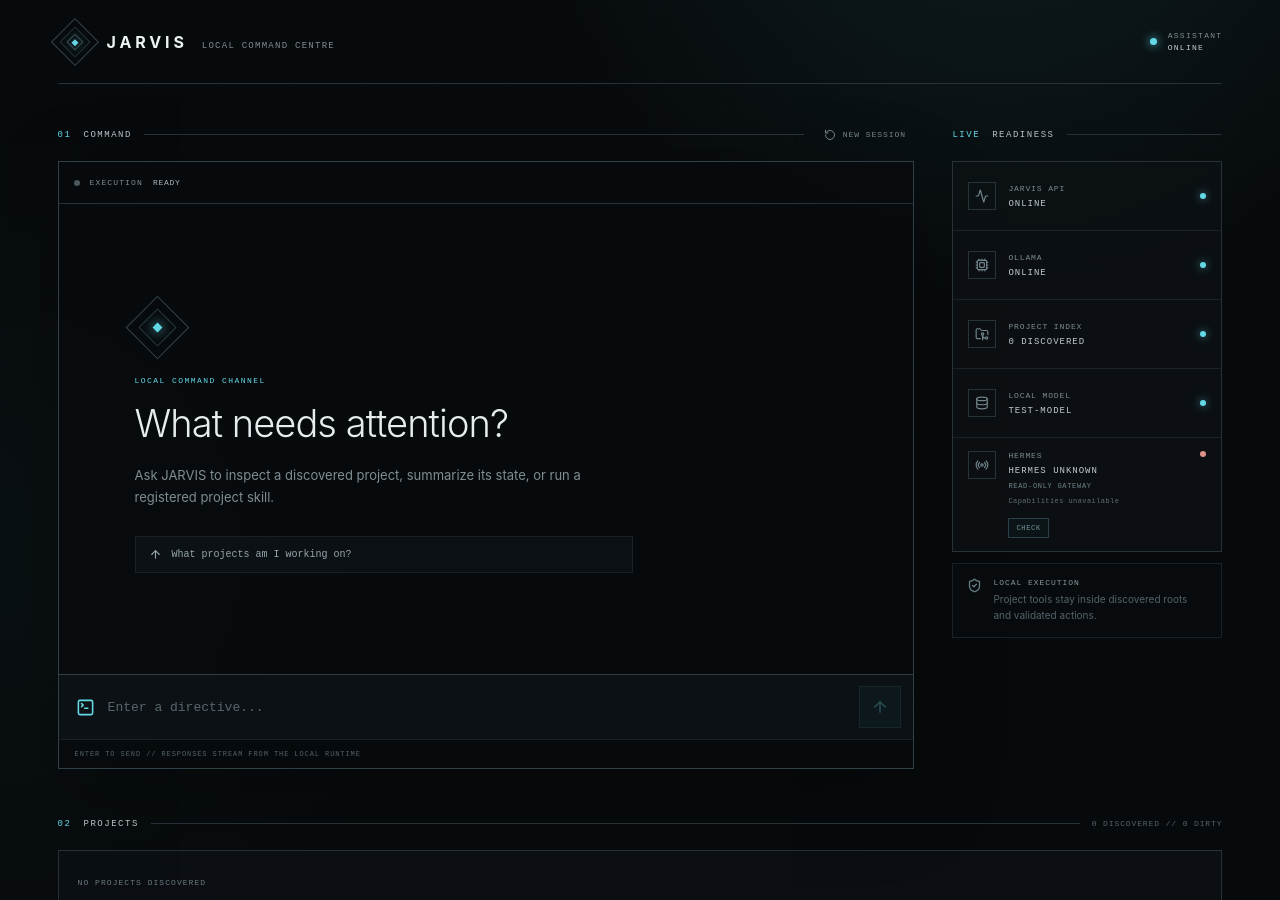
Test case: Dashboard › handles an expired session without crashing
Expected: the text "ONLINE" below "ASSISTANT" is shown, 1168,43 -> 1204,52
In the field named "Enter a command": point(477, 707) 108,686 -> 846,728, type "Continue"
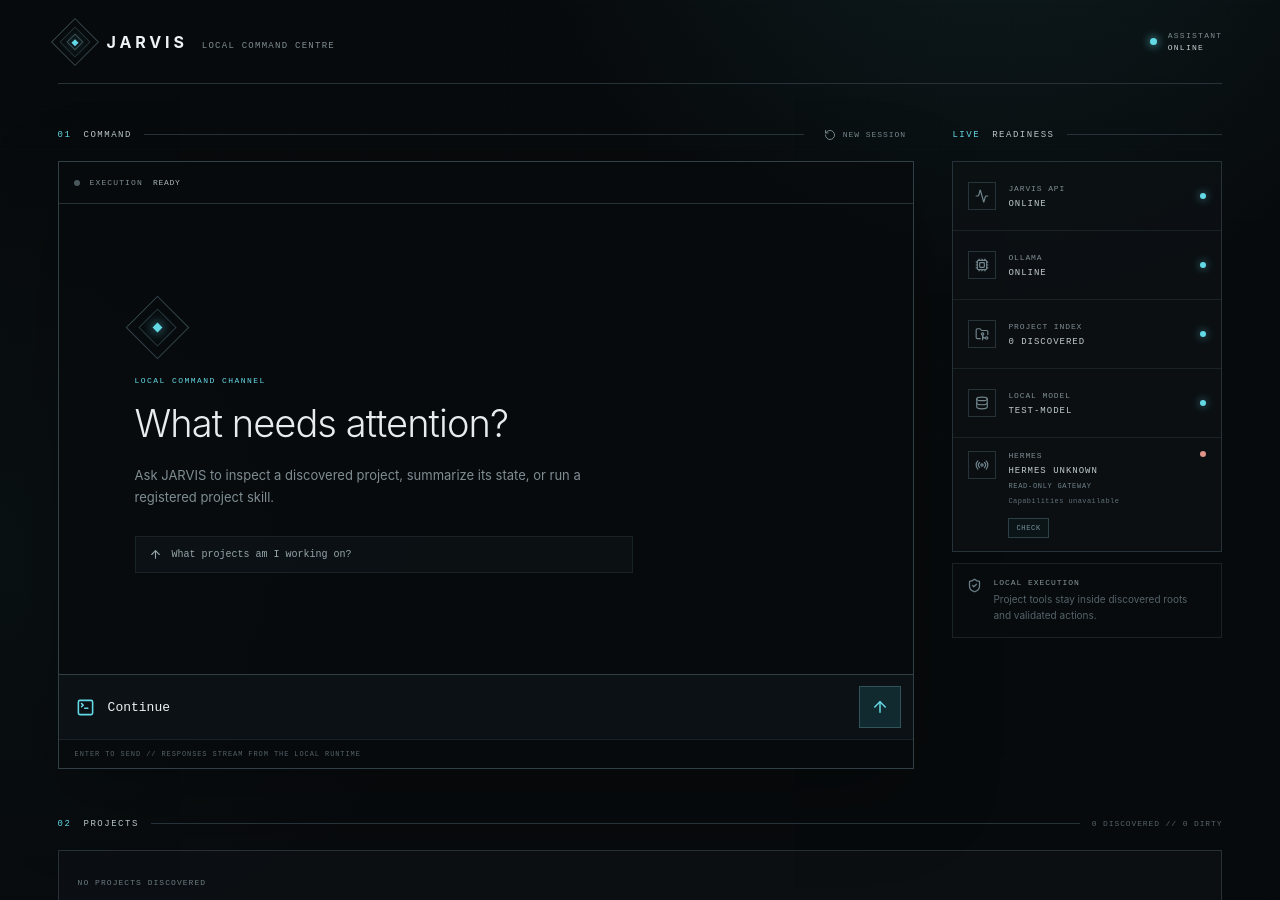
Click the button named "Send message": point(880, 707) 859,686 -> 901,728
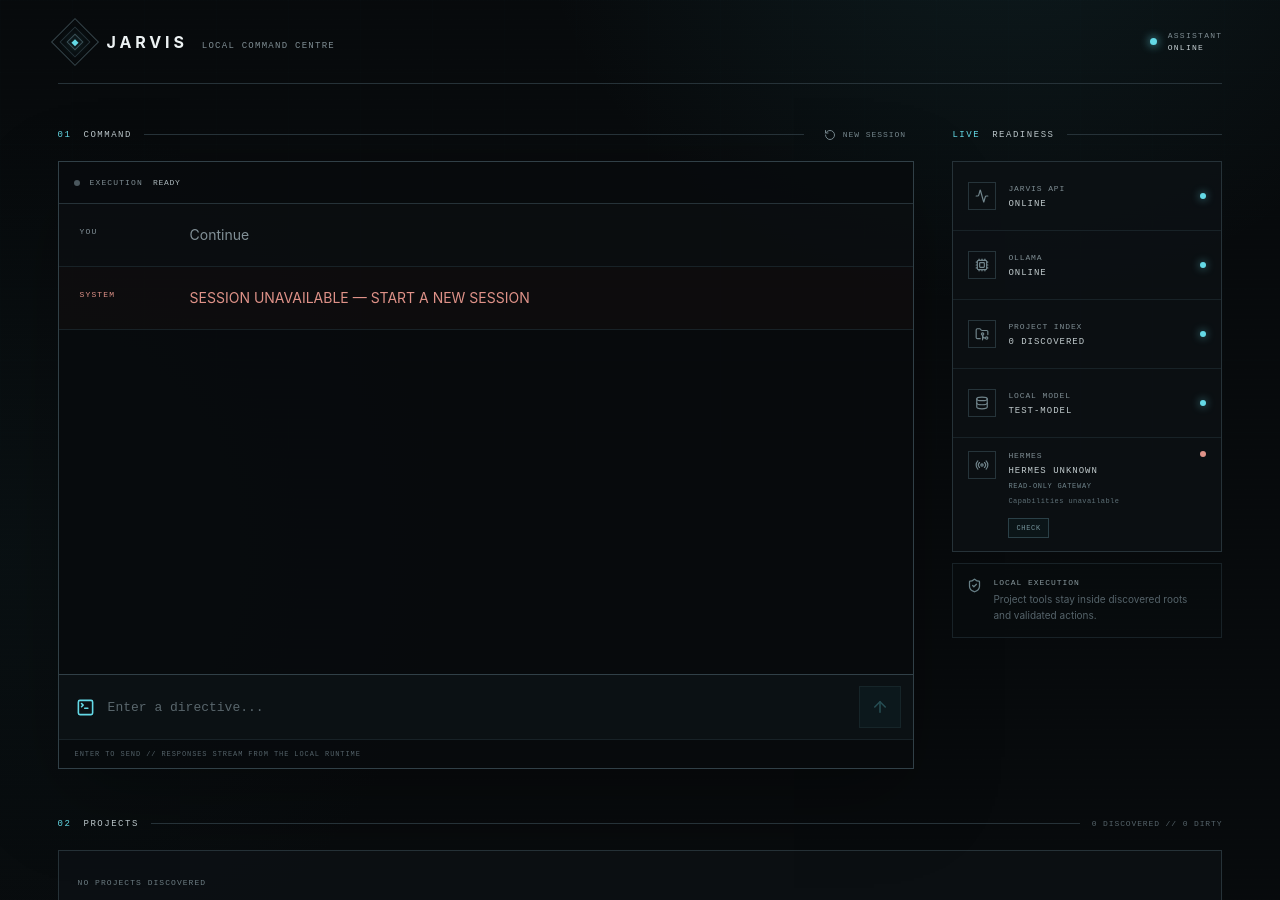
Expected: the text "SESSION UNAVAILABLE — START A NEW SESSION" is shown, 190,289 -> 530,306
